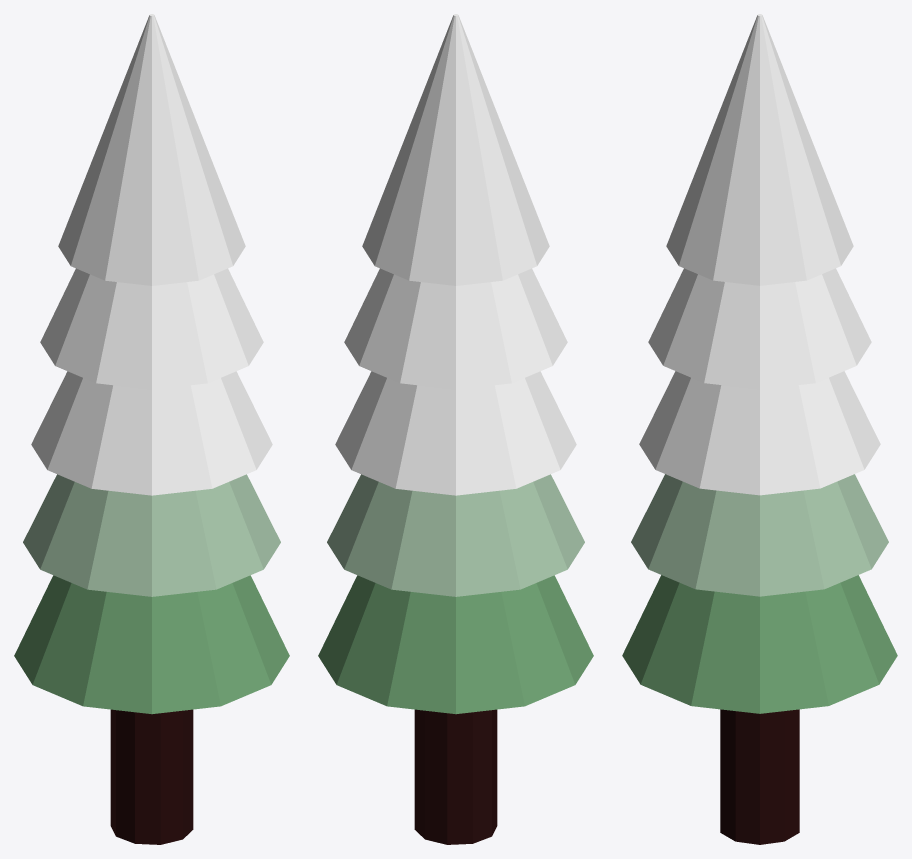
The model's file is white_tree3.fbx.
3 renders of one model, left to right at view 1: azimuth 30°, elevation 25°; view 2: azimuth 150°, elevation 25°; view 3: azimuth 270°, elevation 25°, orthographic.
Visible parts, largest first — view 1: Cylinder_1; view 2: Cylinder_1; view 3: Cylinder_1.
Part boxes in pixels (x1,y1,x2,y2): Cylinder_1: [14, 14, 289, 844]; Cylinder_1: [318, 14, 593, 844]; Cylinder_1: [622, 14, 897, 844].
Size of the model in its own units: 216 by 703 by 216.
